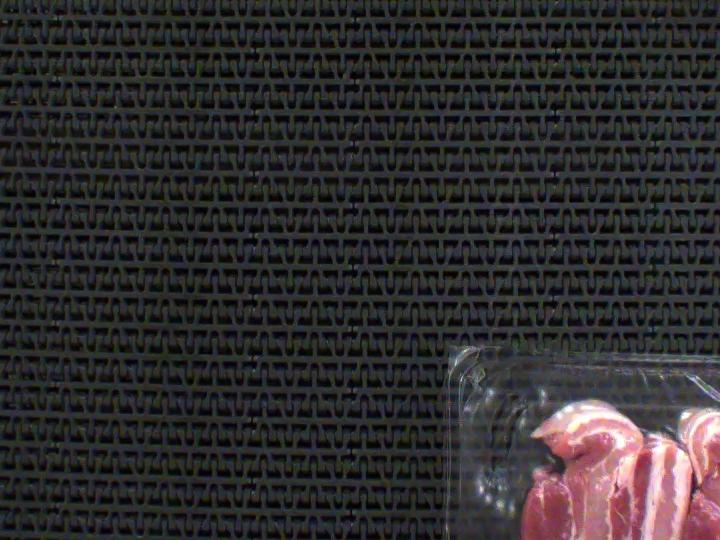packaging-error: (453, 355, 720, 540)
